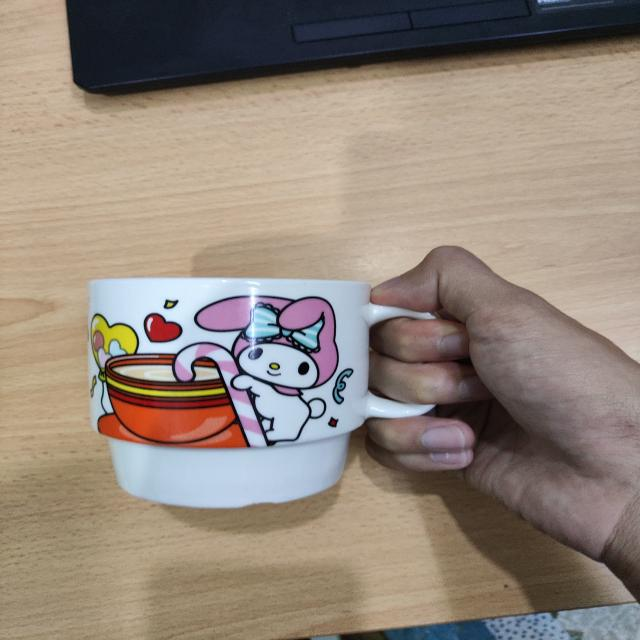cup: (70, 269, 465, 519)
